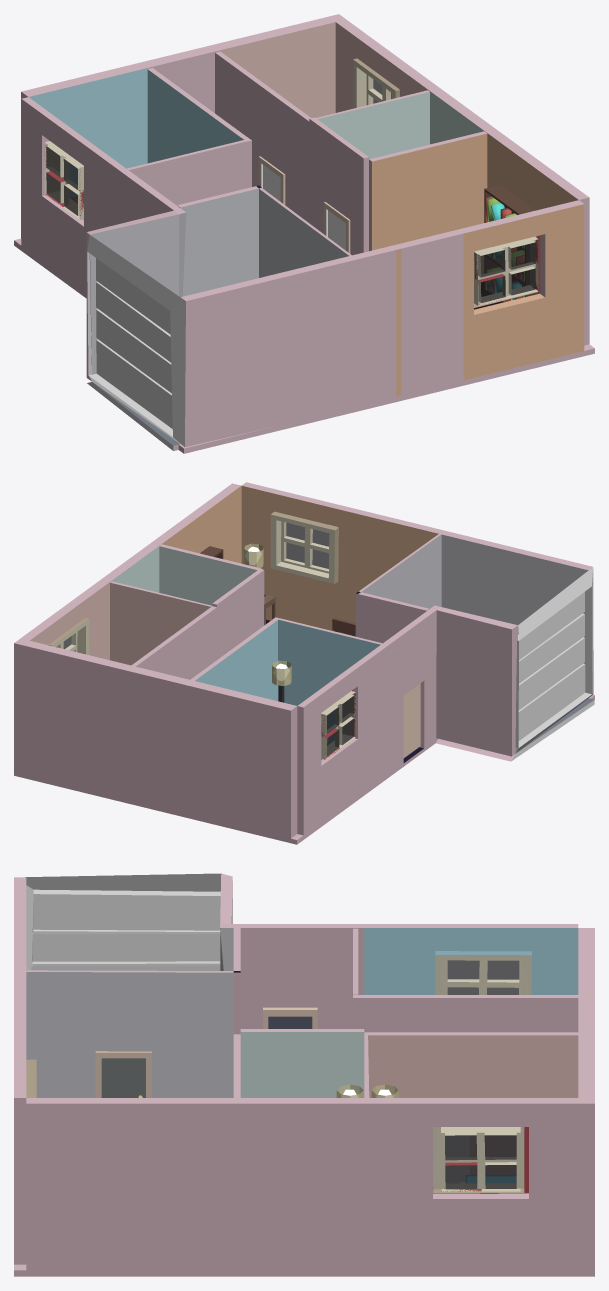
Rendered from no_roof_interior.glb.
3 renders of one model, top to bottom at view 1: azimuth 30°, elevation 25°; view 2: azimuth 150°, elevation 25°; view 3: azimuth 270°, elevation 25°, orthographic. The views are drawn at different scales.
Parts seen in each view (by area): view 1: Cube.023, Cube.033, Cube.030, Cube.032, Cube.026, Cylinder.003, Cylinder.002; view 2: Cube.023, Cube.033, Cube.030, Cylinder.001, Cube.032; view 3: Cube.023, Cube.032, Cube.030, Cylinder.005, Cylinder.001, Cylinder.002.
Boxes of the visible parts, x1,y1,x2,y2 form: Cube.023: (14,14,594,453); Cube.033: (474,235,540,308); Cube.030: (44,140,83,219); Cube.032: (353,58,399,108); Cube.026: (484,185,539,302); Cylinder.003: (323,202,350,253); Cylinder.002: (258,156,285,204); Cube.023: (14,482,594,844); Cube.033: (270,511,338,583); Cube.030: (321,690,355,759); Cylinder.001: (403,683,420,757); Cube.032: (49,618,89,654); Cube.023: (14,873,594,1276); Cube.032: (433,1127,528,1193); Cube.030: (435,951,531,994); Cylinder.005: (95,1051,151,1097); Cylinder.001: (263,1007,317,1028); Cylinder.002: (445,1135,475,1183).
Bounding box in the file's own units: 13.71 × 4.85 × 14.61.
